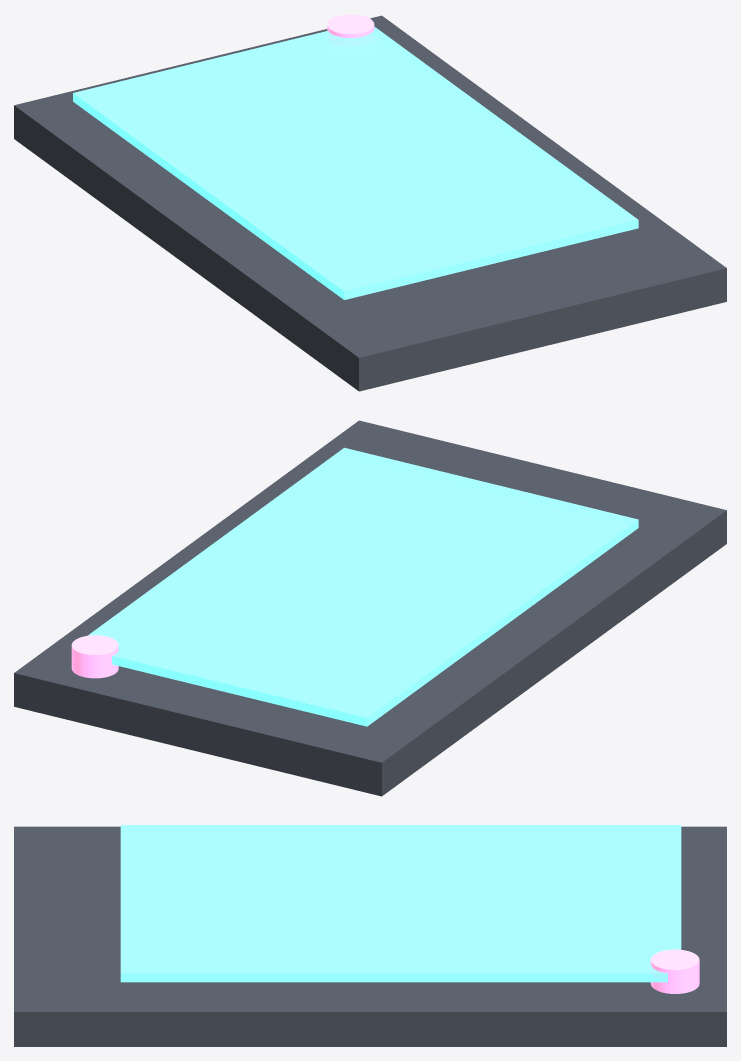
The model's file is holo_datapad.glb.
The picture shows the model from 3 angles, top to bottom: view 1: azimuth 30°, elevation 25°; view 2: azimuth 150°, elevation 25°; view 3: azimuth 270°, elevation 25°; orthographic projection. The views are drawn at different scales.
Parts seen in each view (by area): view 1: HoloDatapad; view 2: HoloDatapad; view 3: HoloDatapad.
Boxes of the visible parts, <box> form: HoloDatapad: <box>14,14,726,391</box>; HoloDatapad: <box>14,420,726,796</box>; HoloDatapad: <box>14,825,726,1046</box>.
Size of the model in its own units: 0.144 by 0.0213 by 0.234.
